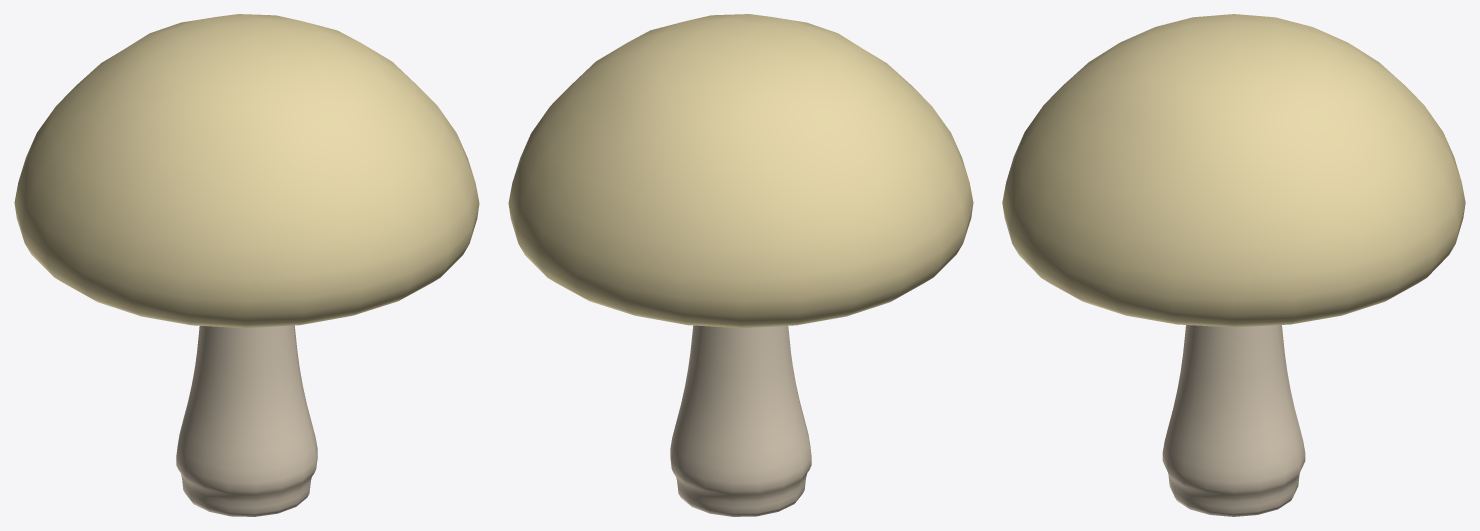
File: Mushroom.fbx
3 views of the same model, side by side, from view 1: azimuth 30°, elevation 25°; view 2: azimuth 150°, elevation 25°; view 3: azimuth 270°, elevation 25° (orthographic).
Visible parts, largest first — view 1: cap, stem; view 2: cap, stem; view 3: cap, stem.
Part boxes in pixels (x1,y1,x2,y2): cap: (14, 14, 479, 328); stem: (176, 325, 317, 516); cap: (508, 14, 973, 328); stem: (670, 325, 811, 516); cap: (1002, 14, 1465, 327); stem: (1162, 325, 1305, 516).
Size of the model in its own units: 1.69 by 1.82 by 1.69.
